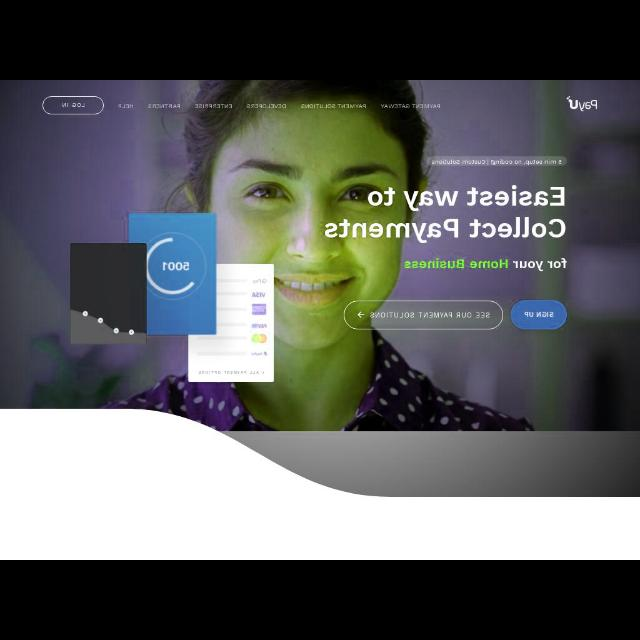backgroundimage: (1, 81, 639, 431)
icon: (356, 312, 366, 318)
image: (566, 98, 596, 112)
text: (324, 186, 564, 240), (405, 258, 567, 270), (428, 157, 566, 167), (370, 312, 490, 320), (301, 102, 367, 111), (381, 104, 442, 110), (246, 104, 286, 110), (524, 310, 554, 318), (194, 104, 232, 110), (147, 104, 181, 110), (61, 102, 85, 108), (117, 102, 133, 110)
textbutton: (346, 302, 502, 331), (512, 300, 566, 330), (42, 97, 104, 115)
